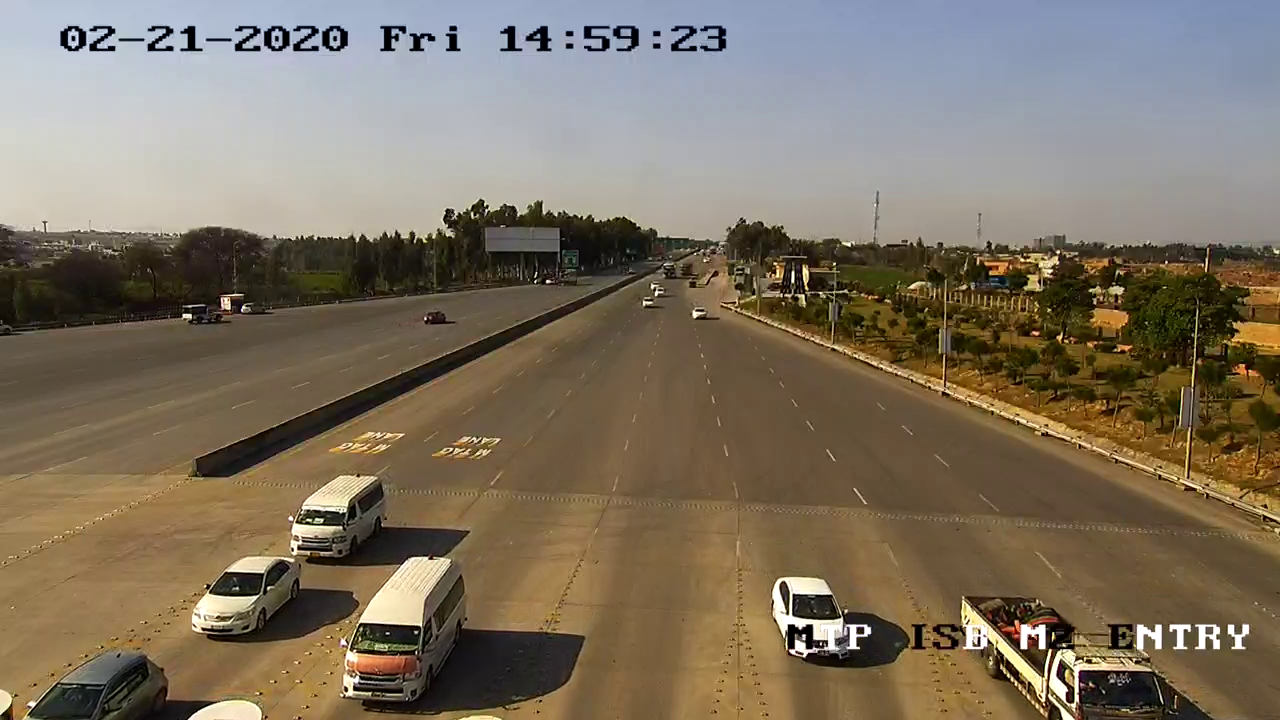f1: (180, 544, 306, 655)
f3: (332, 548, 472, 712), (272, 464, 400, 564)
